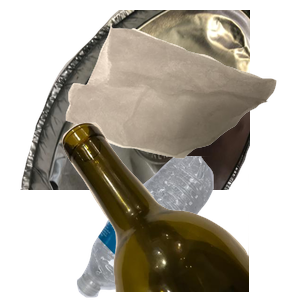glass: (60, 120, 300, 300)
metal: (18, 10, 258, 190)
plastic: (74, 156, 280, 300)
trash: (63, 21, 300, 172)
